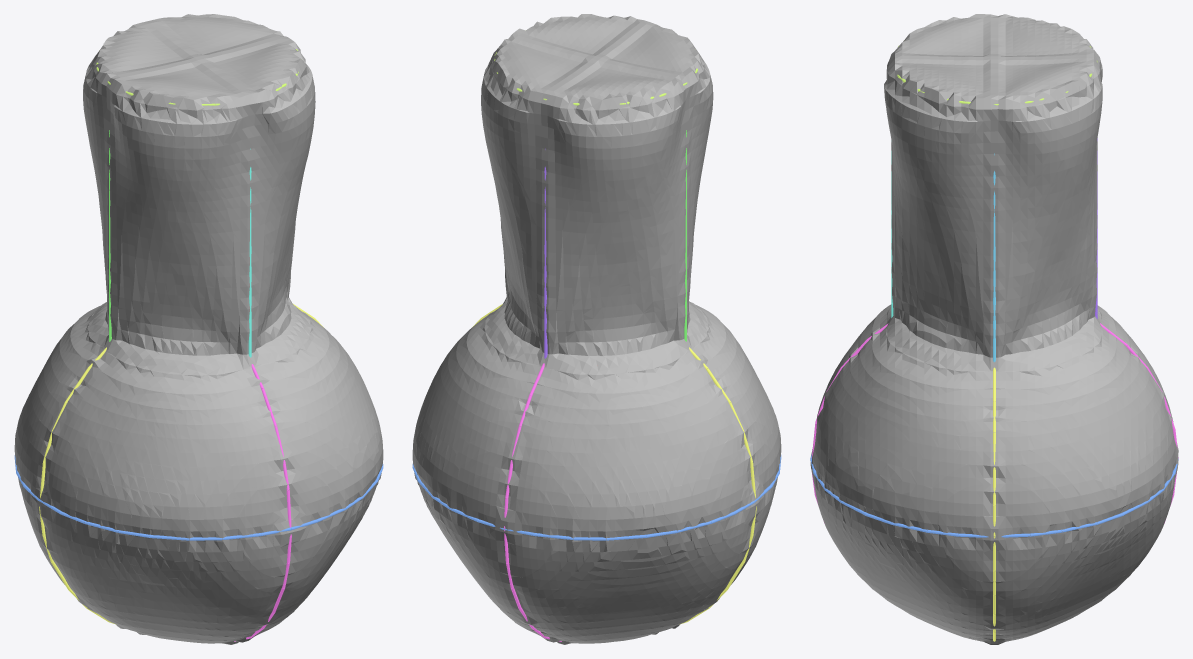
The model's file is flowrep_spherecylinder.gltf.
The picture shows the model from 3 angles, left to right: view 1: azimuth 30°, elevation 25°; view 2: azimuth 150°, elevation 25°; view 3: azimuth 270°, elevation 25°; orthographic projection.
Size of the model in its own units: 0.456 by 0.7852 by 0.4564.
